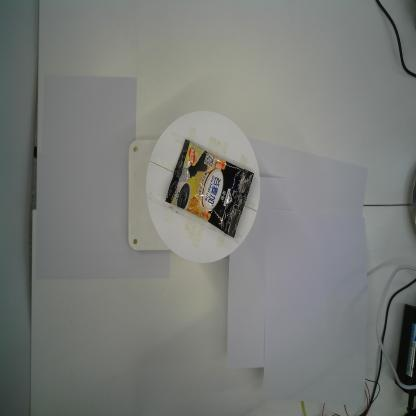Instant Drink: (165, 138, 254, 239)
